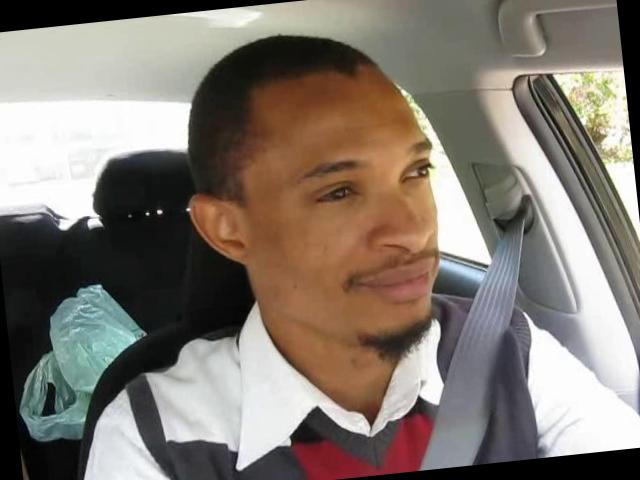eye_open: (309, 176, 368, 213), (397, 154, 436, 188)
face: (242, 123, 458, 360)
